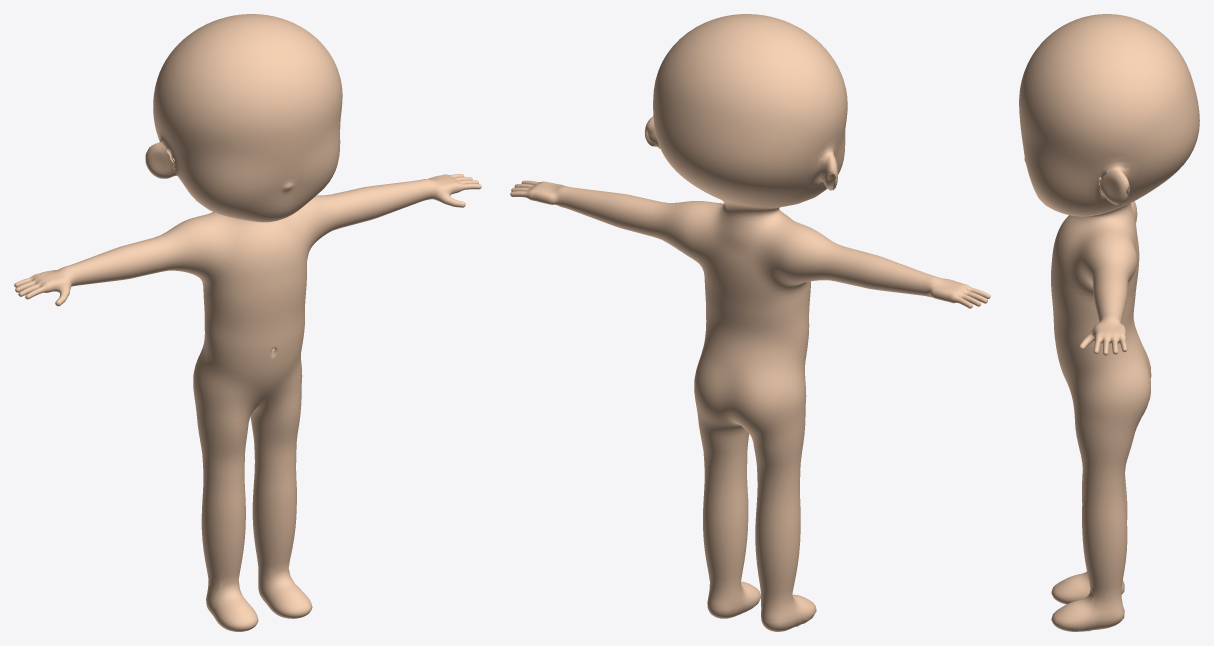
Rendered from male_small_mesh_only.fbx.
3 renders of one model, left to right at view 1: azimuth 30°, elevation 25°; view 2: azimuth 150°, elevation 25°; view 3: azimuth 270°, elevation 25°, orthographic. The views are drawn at different scales.
Parts seen in each view (by area): view 1: Body; view 2: Body; view 3: Body.
Boxes of the visible parts, x1=… form: Body: x1=14, y1=14, x2=481, y2=631; Body: x1=510, y1=14, x2=990, y2=631; Body: x1=1019, y1=14, x2=1199, y2=631.
Bounding box in the file's own units: 128 × 156 × 43.35.
